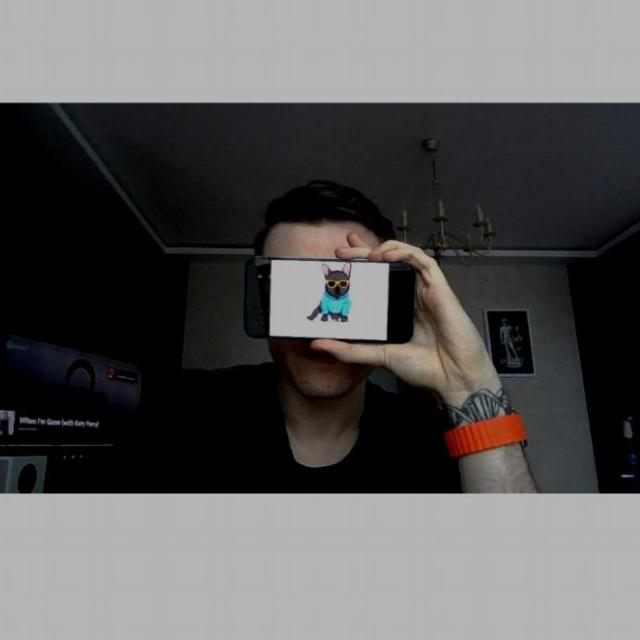device: (238, 250, 420, 348)
